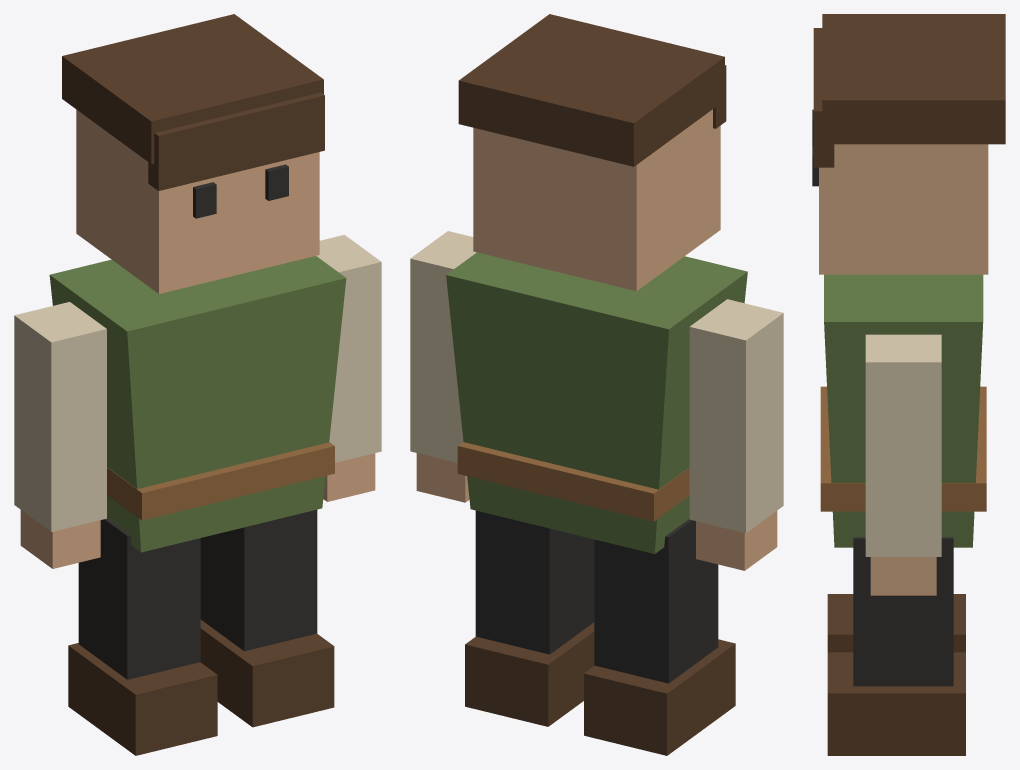
The model's file is villager.glb.
3 views of the same model, side by side, from view 1: azimuth 30°, elevation 25°; view 2: azimuth 150°, elevation 25°; view 3: azimuth 270°, elevation 25° (orthographic). The views are drawn at different scales.
Parts seen in each view (by area): view 1: Villager; view 2: Villager; view 3: Villager.
Part boxes in pixels (x1,y1,x2,y2): Villager: (14,14,381,755); Villager: (410,14,783,755); Villager: (812,14,1005,755).
Size of the model in its own units: 0.6551 by 1.2 by 0.3241.
